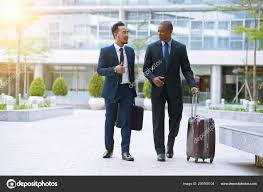Bad: (96, 20, 187, 160)
